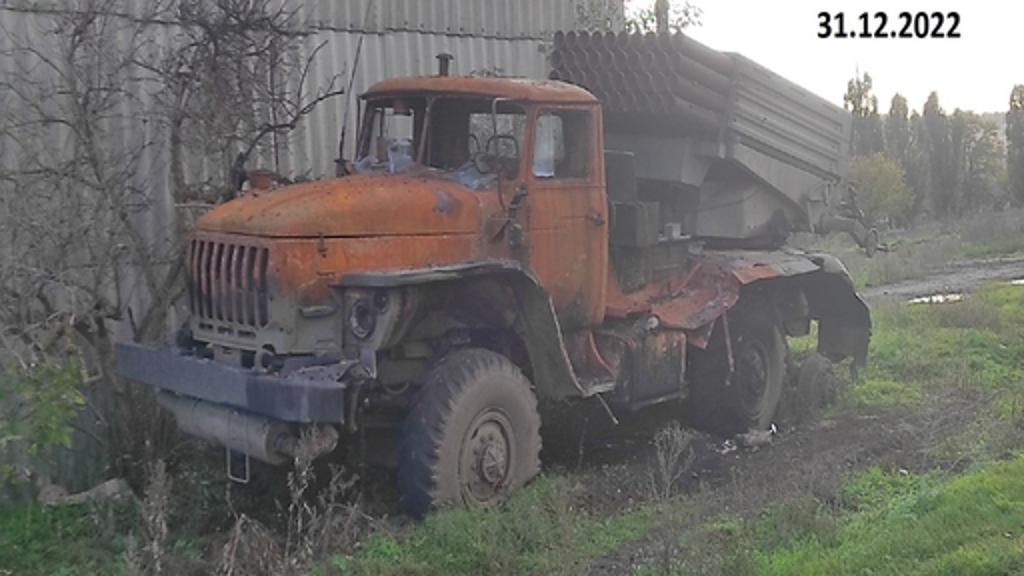MLRS: (108, 28, 870, 514)
